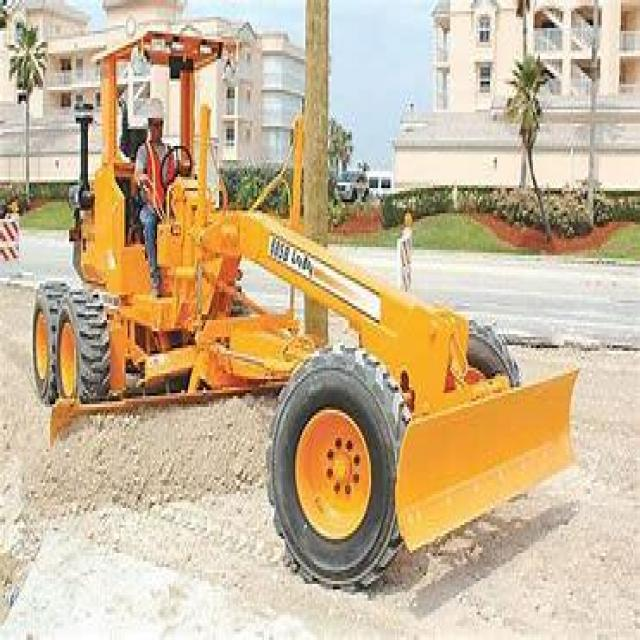Grader: (20, 19, 572, 586)
